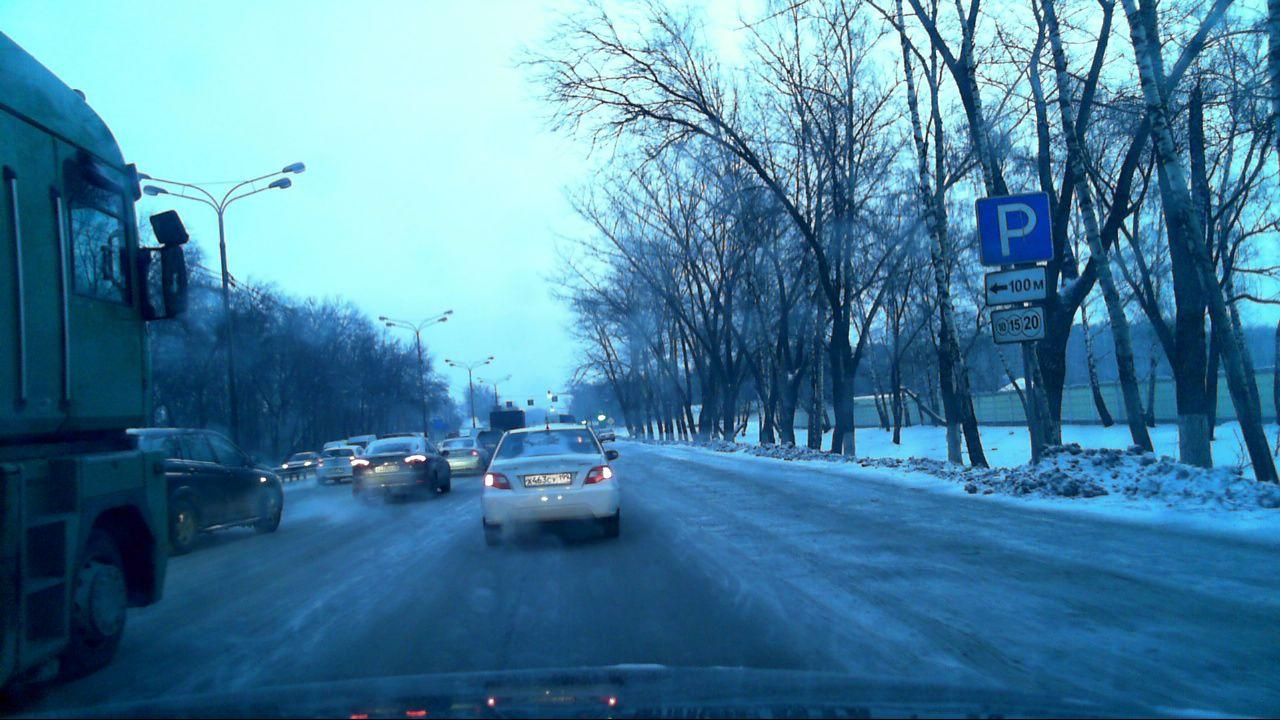6_4: (975, 191, 1053, 266)
8_1_4: (982, 267, 1048, 303)
8_8: (989, 308, 1046, 344)
